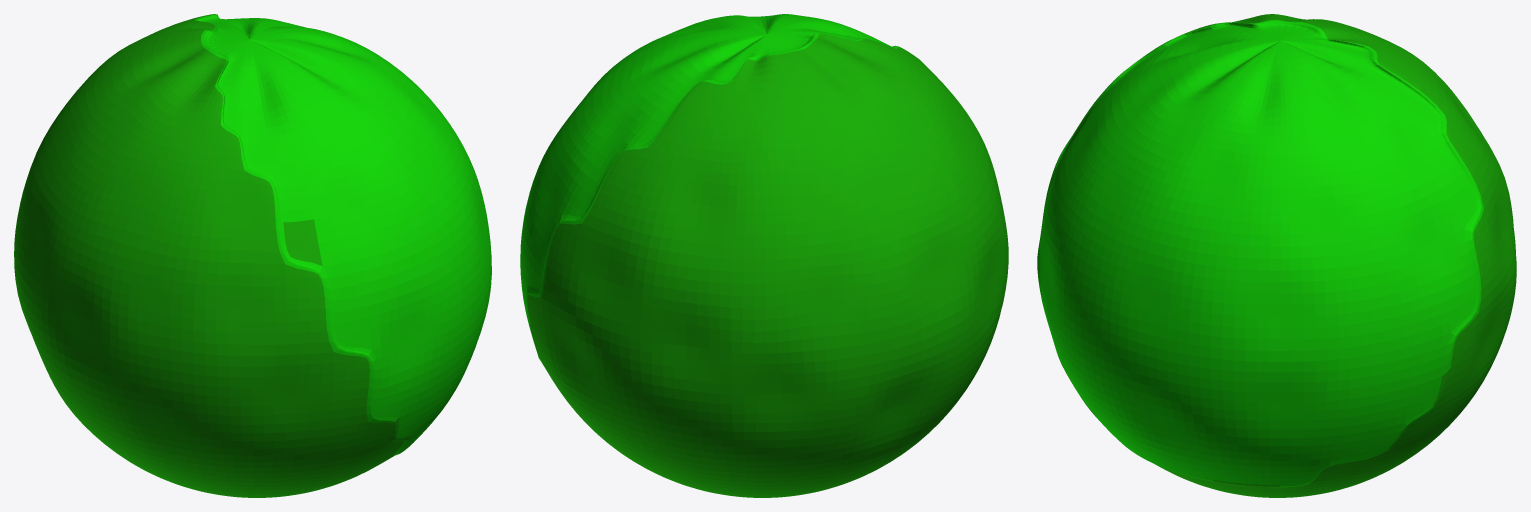
The model's file is BetterLettuce.fbx.
3 views of the same model, side by side, from view 1: azimuth 30°, elevation 25°; view 2: azimuth 150°, elevation 25°; view 3: azimuth 270°, elevation 25° (orthographic). The views are drawn at different scales.
Visible parts, largest first — view 1: Sphere; view 2: Sphere; view 3: Sphere.
Part boxes in pixels (box(x1,y1,x2,y2)): Sphere: box(14, 14, 491, 497); Sphere: box(520, 14, 1008, 497); Sphere: box(1037, 14, 1516, 497).
Size of the model in its own units: 194 by 198 by 197.
